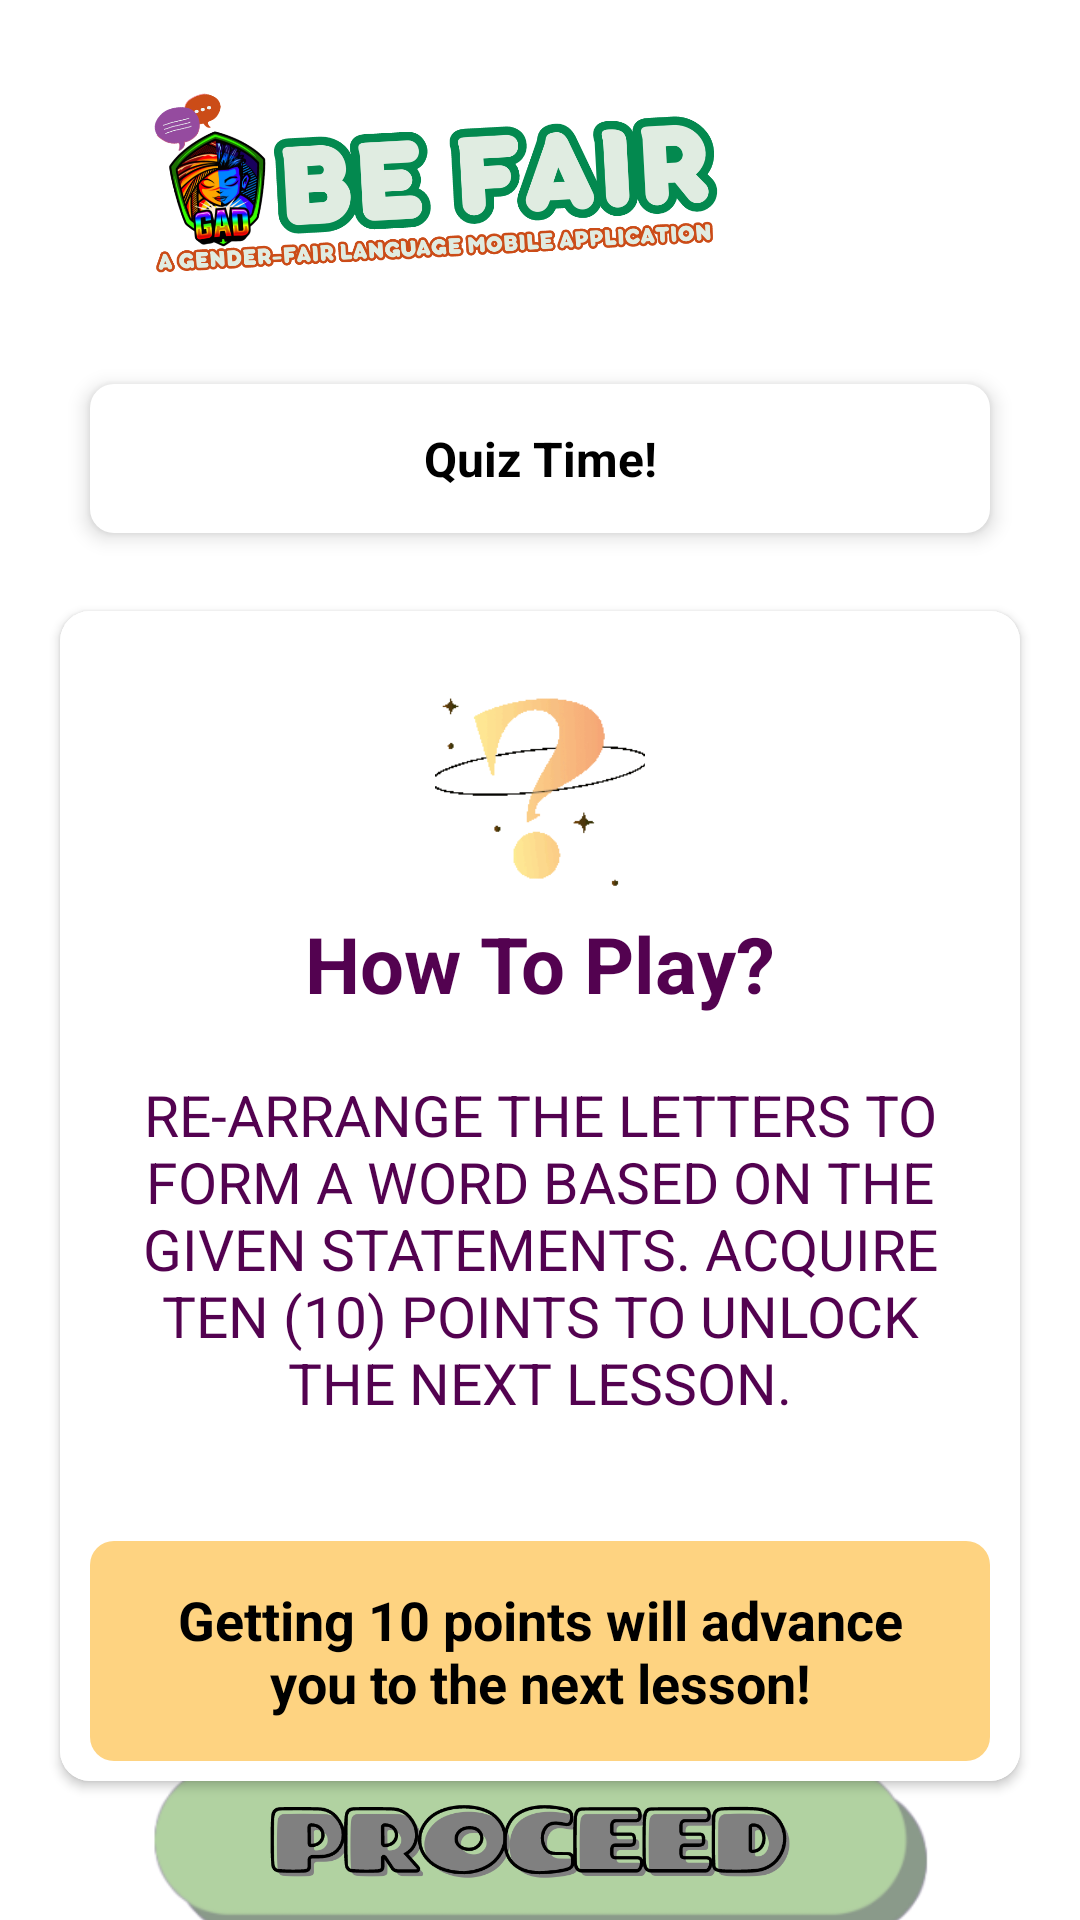

Screen size 1080w x 1920h. Icon name, then its box in pixels as (x1, y1, x2, y2):
guess: (435, 698, 645, 886)
